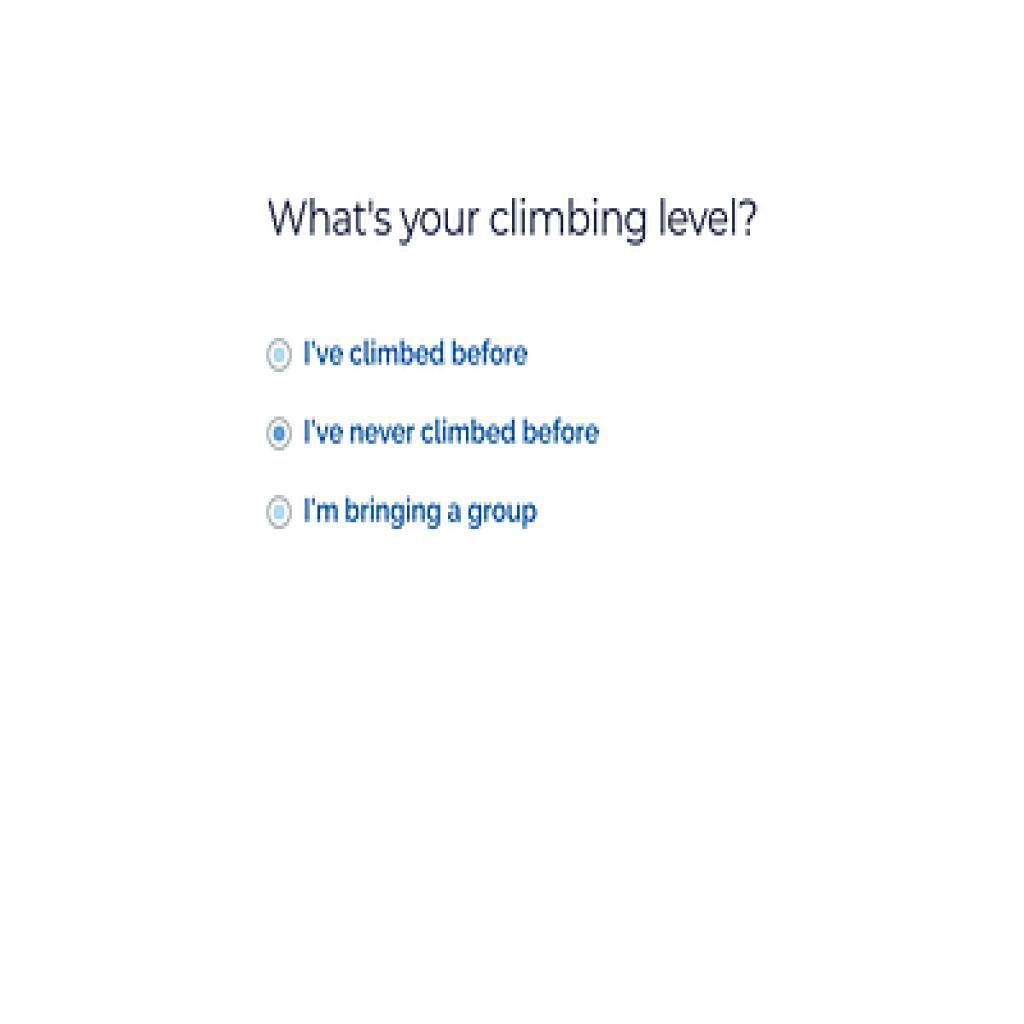label: (261, 193, 761, 253), (299, 415, 606, 449), (299, 494, 542, 534), (300, 336, 532, 372)
radio: (264, 493, 294, 533), (264, 338, 295, 376), (265, 416, 295, 455)
